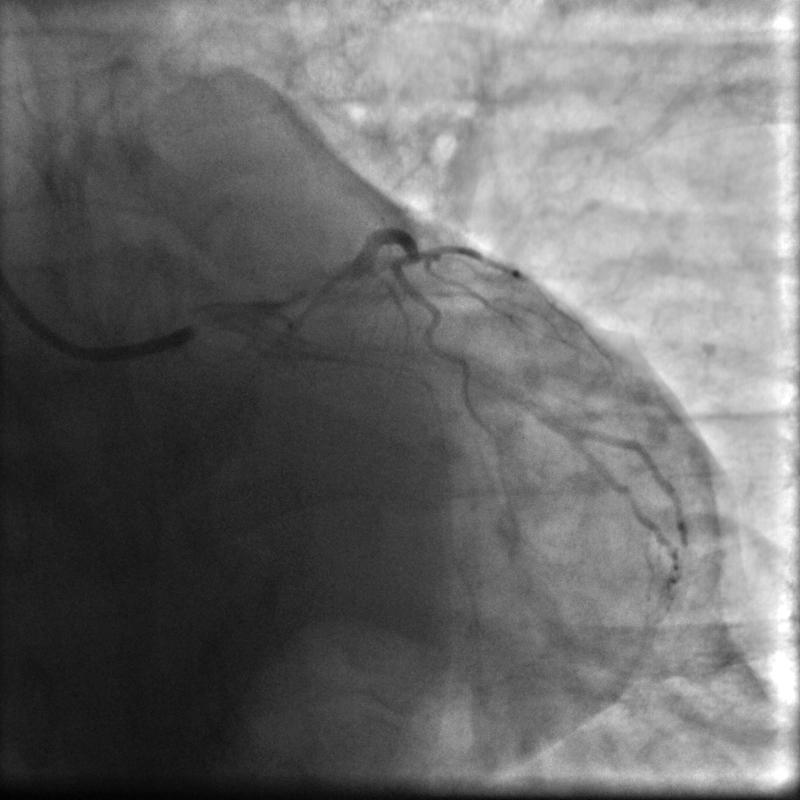Stenosis: (276, 269, 350, 304)
